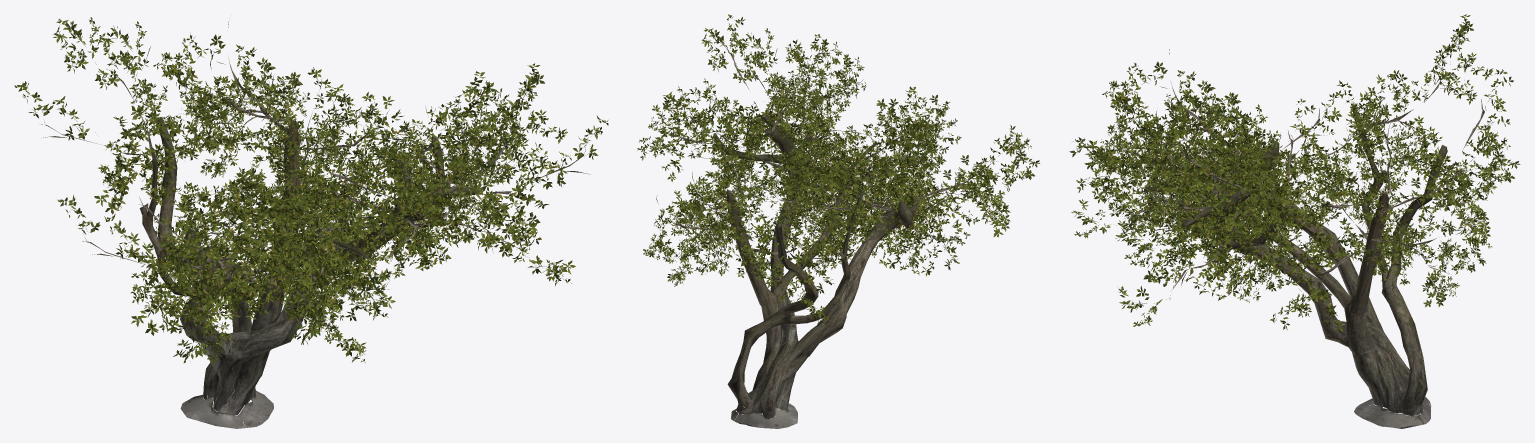
File: island_tree_02.gltf
3 views of the same model, side by side, from view 1: azimuth 30°, elevation 25°; view 2: azimuth 150°, elevation 25°; view 3: azimuth 270°, elevation 25° (orthographic). The views are drawn at different scales.
Parts seen in each view (by area): view 1: island_tree_02_LOD0; view 2: island_tree_02_LOD0; view 3: island_tree_02_LOD0.
Part boxes in pixels (x1,y1,x2,y2): island_tree_02_LOD0: [14, 17, 608, 428]; island_tree_02_LOD0: [637, 14, 1039, 428]; island_tree_02_LOD0: [1069, 14, 1520, 428].
Bounding box in the file's own units: 3.87 × 3.41 × 4.07.
3 materials, 3 textured.
